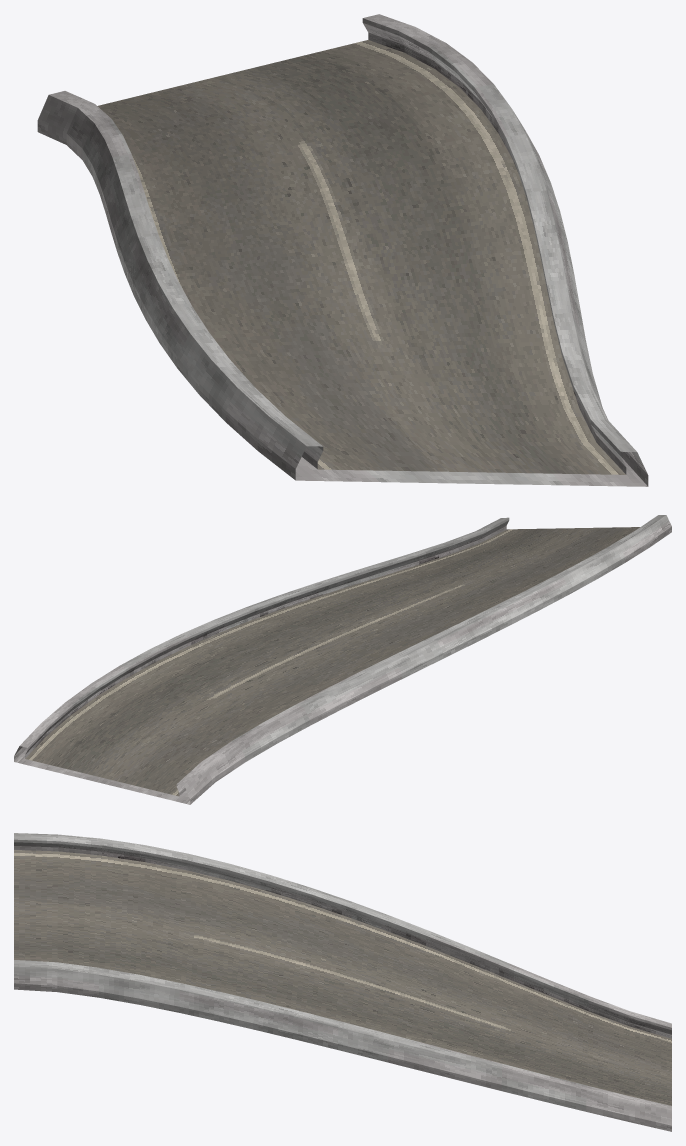
File: chicane-right1x3.glb
The picture shows the model from 3 angles, top to bottom: view 1: azimuth 30°, elevation 25°; view 2: azimuth 150°, elevation 25°; view 3: azimuth 270°, elevation 25°; orthographic projection. The views are drawn at different scales.
Visible parts, largest first — view 1: road-Chicane-HalfBankedRight-BiSlopeDown-Down1-Right1-Size3; view 2: road-Chicane-HalfBankedRight-BiSlopeDown-Down1-Right1-Size3; view 3: road-Chicane-HalfBankedRight-BiSlopeDown-Down1-Right1-Size3.
Boxes of the visible parts, bbox=[...] form: road-Chicane-HalfBankedRight-BiSlopeDown-Down1-Right1-Size3: bbox=[37, 14, 648, 486]; road-Chicane-HalfBankedRight-BiSlopeDown-Down1-Right1-Size3: bbox=[14, 515, 671, 804]; road-Chicane-HalfBankedRight-BiSlopeDown-Down1-Right1-Size3: bbox=[14, 833, 671, 1131].
Size of the model in its own units: 2 by 0.5859 by 3.
Materials: 2 (2 with a texture image).
